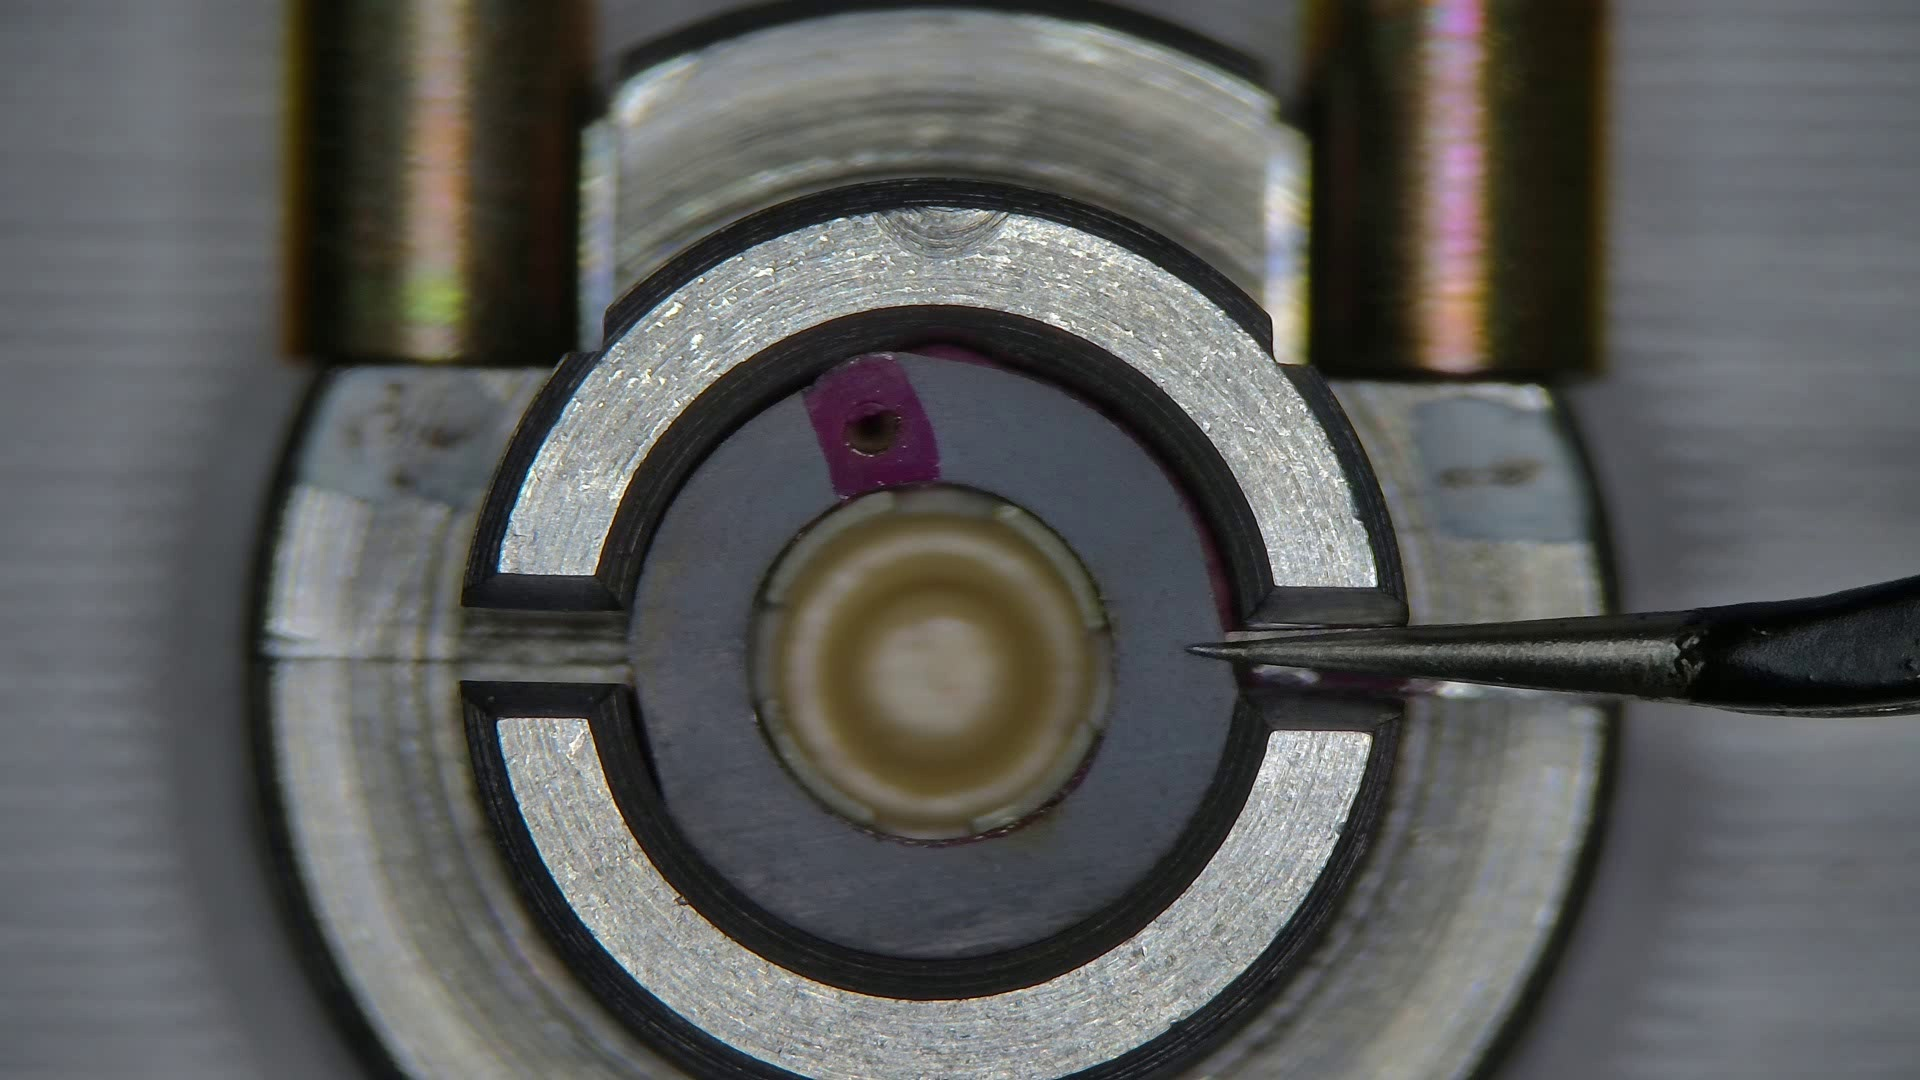YellowOring: (634, 349, 1229, 961)
